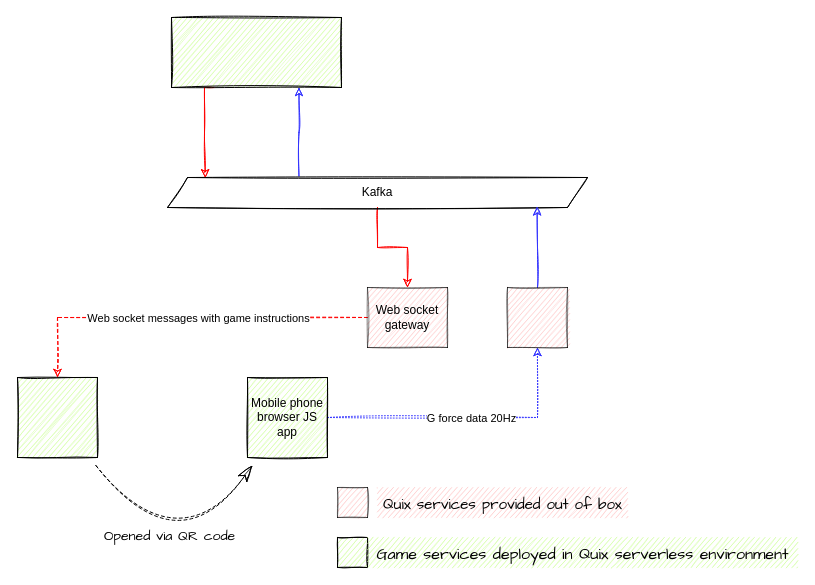
The diagram is 815 pixels wide and 585 high, and some of its shapes have lost their labels. The shapes that lost their labels are listed below. From the top down, each one's centre as x and y in pixels, then its label:
point 256,52: Python service to convert gforce data into game instructions
point 537,317: HTTP gateway
point 57,417: Browser JS app
